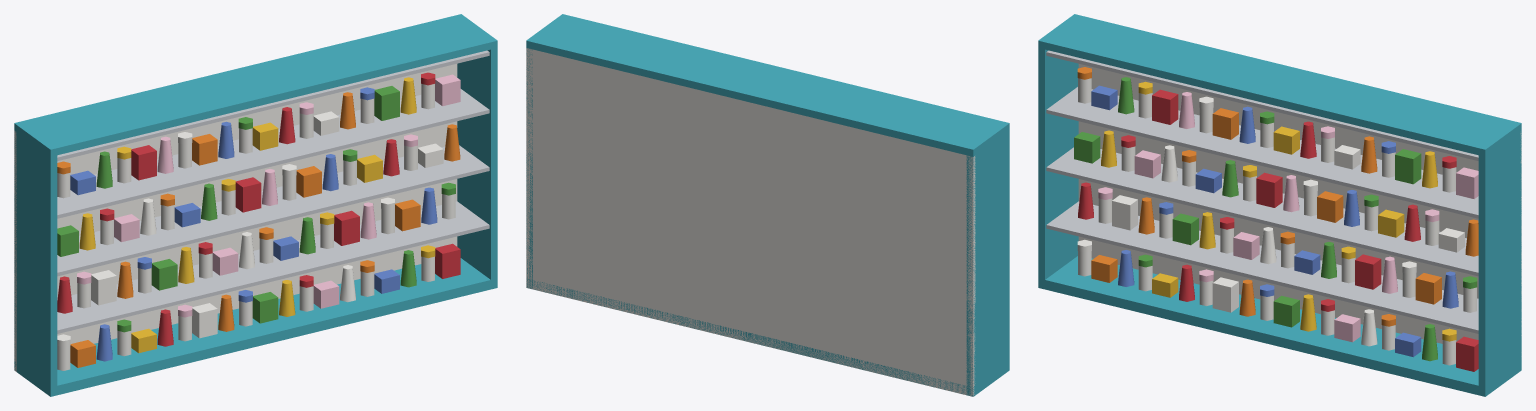
Rendered from medicine_shelf.glb.
3 renders of one model, left to right at view 1: azimuth 30°, elevation 25°; view 2: azimuth 150°, elevation 25°; view 3: azimuth 330°, elevation 25°, orthographic.
Parts seen in each view (by area): view 1: root; view 2: root; view 3: root.
Part boxes in pixels (<box>): root: <box>14,14,497,396</box>; root: <box>526,14,1009,396</box>; root: <box>1038,14,1521,396</box>.
Size of the model in its own units: 3.9 by 2.06 by 0.55.
